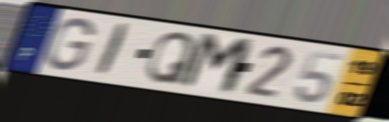2: (242, 45, 294, 101)
5: (294, 49, 346, 105)
G: (43, 16, 97, 73)
I: (92, 21, 134, 79)
M: (177, 30, 258, 98)
Q: (144, 30, 200, 87)
